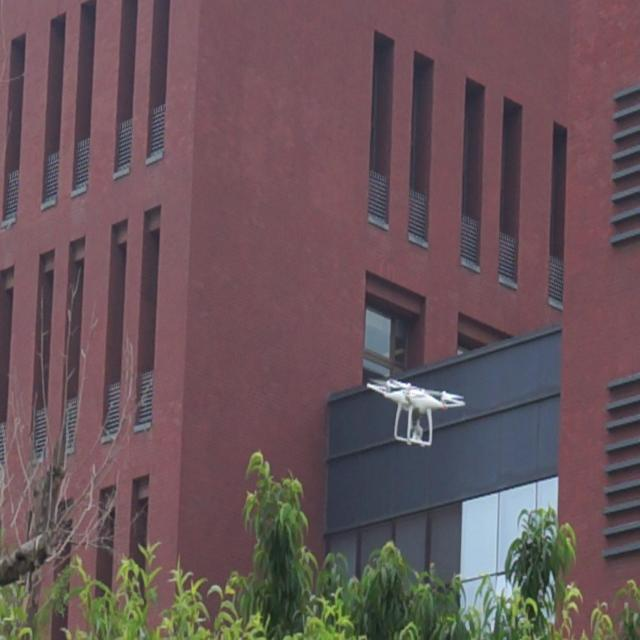UAV: (365, 378, 466, 449)
